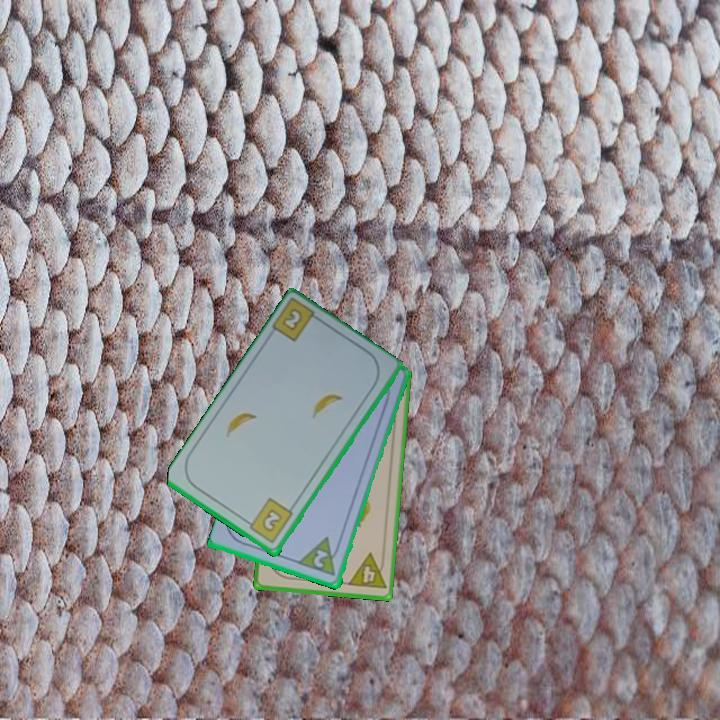2b: (242, 495, 296, 547), (269, 297, 326, 345)
2p: (310, 546, 331, 571)
4p: (344, 550, 389, 592)
